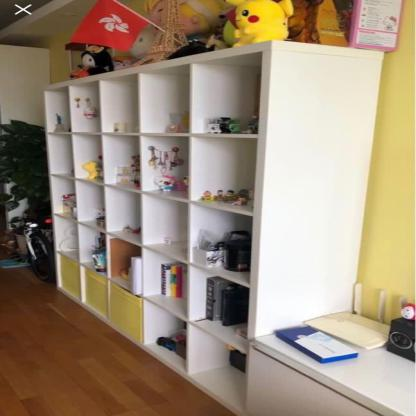lamp: (34, 38, 388, 416)
